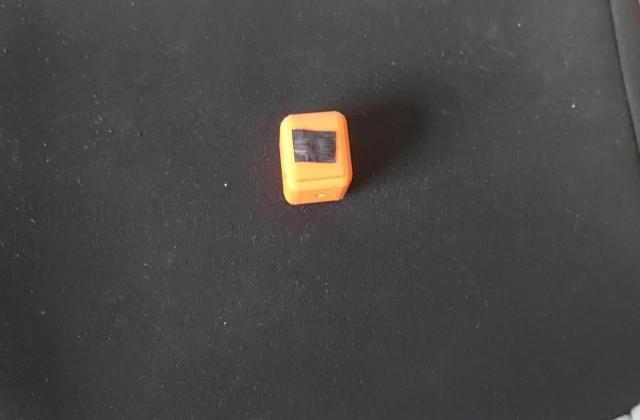black: (287, 125, 342, 168)
sticker: (273, 108, 356, 212)
